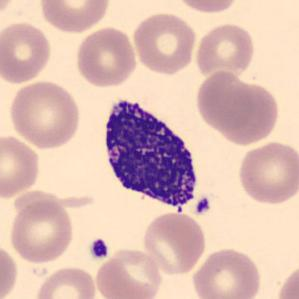Basophil: (97, 92, 205, 216)
Platelets: (87, 237, 111, 261), (194, 196, 212, 217)
RBC: (7, 78, 83, 150), (7, 196, 76, 265), (130, 9, 198, 76), (140, 210, 208, 277), (73, 25, 139, 89), (236, 139, 298, 207), (220, 80, 282, 147), (190, 245, 264, 299), (193, 69, 255, 132), (192, 21, 256, 79), (94, 246, 163, 299), (0, 19, 53, 85), (0, 133, 43, 200), (37, 0, 112, 34), (33, 264, 98, 299), (0, 241, 19, 299), (172, 0, 241, 15), (274, 260, 298, 299), (0, 0, 18, 23)
